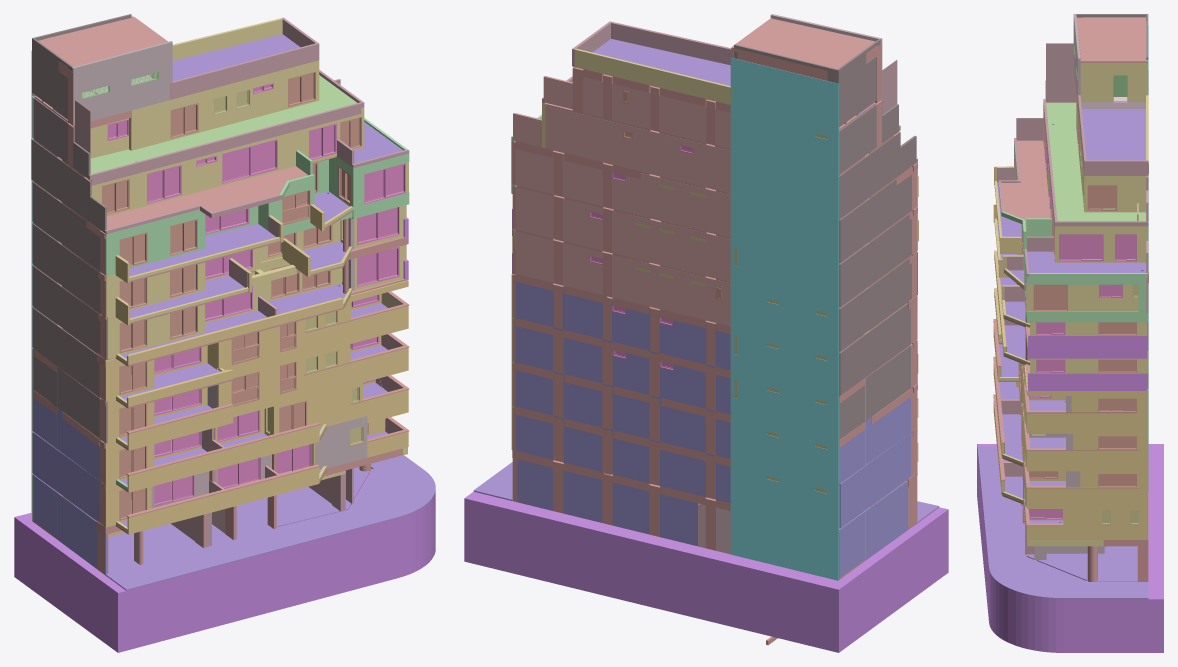
File: export_optimizado.glb
The picture shows the model from 3 angles, left to right: view 1: azimuth 30°, elevation 25°; view 2: azimuth 150°, elevation 25°; view 3: azimuth 270°, elevation 25°; orthographic projection. The views are drawn at different scales.
Visible parts, largest first — view 1: b6c92ccf-5ed4-40cd-8052-a4311964f4d4-001ed1fb, b48e75a0-e608-4424-82a1-90737de92903-0019c3a8, 50cde0a1-cd50-4eed-91e6-b8986626f74e-002ba91a, e541dee8-8ff9-4bf6-92fa-ad4d4bc16320-00241ce6, 9dd3454c-58d9-47c6-ace2-a0e0785d027c-003160f7, 989913ff-6326-4d10-8dc6-93c4a711d656-0005b3d7, 3faed956-dad3-4e42-bc31-6bb94f48b944-00187ec7, e541dee8-8ff9-4bf6-92fa-ad4d4bc16320-00241cf8, 9c3eb651-34d8-4eed-a249-2cb6b70178c4-0022fa7d, af0b759e-a575-4204-838e-907e9df6656f-000b1408, 8076bb30-cbe6-430b-9eab-5f683b912109-001858cd, a7863275-5941-4653-bb91-d8b438675e41-00057378 (+89 smaller); view 2: 1c318599-594d-46a9-b91b-5482b27efec7-002bacf2, b6c92ccf-5ed4-40cd-8052-a4311964f4d4-001ed1fb, edeb91b2-a4de-4f4d-942f-d9b1aebd0445-0021154c, b1ec02c2-0d8c-4ee0-a1c6-4a46e7e4e71c-00056236, 1519d463-8819-4422-80bb-b060f886a5d8-00055303, b1ec02c2-0d8c-4ee0-a1c6-4a46e7e4e71c-00056240, 1519d463-8819-4422-80bb-b060f886a5d8-000547e4, edeb91b2-a4de-4f4d-942f-d9b1aebd0445-00211812, b1ec02c2-0d8c-4ee0-a1c6-4a46e7e4e71c-00056258, b1ec02c2-0d8c-4ee0-a1c6-4a46e7e4e71c-0005624a, b1ec02c2-0d8c-4ee0-a1c6-4a46e7e4e71c-00056245, b20b94b0-da5e-41ca-8ee9-026512d27053-0024193e (+28 smaller); view 3: b6c92ccf-5ed4-40cd-8052-a4311964f4d4-001ed1fb, b48e75a0-e608-4424-82a1-90737de92903-0019c3a8, 9dd3454c-58d9-47c6-ace2-a0e0785d027c-003160f7, 3faed956-dad3-4e42-bc31-6bb94f48b944-00187f68, 8076bb30-cbe6-430b-9eab-5f683b912109-001858cd, df160c06-4589-4b15-ae37-877acd26834e-00200f31, 0d6de22c-ef1b-49fb-a9a8-ced4d0ade2b4-0021e702, 3faed956-dad3-4e42-bc31-6bb94f48b944-00187ec7, 50cde0a1-cd50-4eed-91e6-b8986626f74e-002ba888, a7863275-5941-4653-bb91-d8b438675e41-00057235, 3faed956-dad3-4e42-bc31-6bb94f48b944-00188033, df160c06-4589-4b15-ae37-877acd26834e-00201489 (+66 smaller).
Boxes of the visible parts, x1,y1,x2,y2 form: b6c92ccf-5ed4-40cd-8052-a4311964f4d4-001ed1fb: [14, 468, 435, 652]; b48e75a0-e608-4424-82a1-90737de92903-0019c3a8: [102, 455, 435, 590]; 50cde0a1-cd50-4eed-91e6-b8986626f74e-002ba91a: [72, 41, 172, 125]; e541dee8-8ff9-4bf6-92fa-ad4d4bc16320-00241ce6: [91, 114, 361, 216]; 9dd3454c-58d9-47c6-ace2-a0e0785d027c-003160f7: [90, 75, 356, 173]; 989913ff-6326-4d10-8dc6-93c4a711d656-0005b3d7: [217, 336, 350, 409]; 3faed956-dad3-4e42-bc31-6bb94f48b944-00187ec7: [106, 166, 307, 229]; e541dee8-8ff9-4bf6-92fa-ad4d4bc16320-00241cf8: [88, 102, 361, 185]; 9c3eb651-34d8-4eed-a249-2cb6b70178c4-0022fa7d: [127, 467, 319, 534]; af0b759e-a575-4204-838e-907e9df6656f-000b1408: [127, 425, 319, 492]; 8076bb30-cbe6-430b-9eab-5f683b912109-001858cd: [38, 17, 167, 66]; a7863275-5941-4653-bb91-d8b438675e41-00057378: [211, 60, 319, 129]; 1c318599-594d-46a9-b91b-5482b27efec7-002bacf2: [730, 57, 838, 580]; b6c92ccf-5ed4-40cd-8052-a4311964f4d4-001ed1fb: [464, 491, 948, 652]; edeb91b2-a4de-4f4d-942f-d9b1aebd0445-0021154c: [545, 105, 701, 185]; b1ec02c2-0d8c-4ee0-a1c6-4a46e7e4e71c-00056236: [514, 362, 730, 458]; 1519d463-8819-4422-80bb-b060f886a5d8-00055303: [514, 406, 730, 503]; b1ec02c2-0d8c-4ee0-a1c6-4a46e7e4e71c-00056240: [515, 282, 730, 370]; 1519d463-8819-4422-80bb-b060f886a5d8-000547e4: [517, 459, 698, 546]; edeb91b2-a4de-4f4d-942f-d9b1aebd0445-00211812: [514, 318, 703, 407]; b1ec02c2-0d8c-4ee0-a1c6-4a46e7e4e71c-00056258: [583, 77, 730, 148]; b1ec02c2-0d8c-4ee0-a1c6-4a46e7e4e71c-0005624a: [628, 214, 730, 281]; b1ec02c2-0d8c-4ee0-a1c6-4a46e7e4e71c-00056245: [627, 258, 730, 326]; b20b94b0-da5e-41ca-8ee9-026512d27053-0024193e: [515, 186, 628, 256]; b6c92ccf-5ed4-40cd-8052-a4311964f4d4-001ed1fb: [977, 444, 1163, 652]; b48e75a0-e608-4424-82a1-90737de92903-0019c3a8: [977, 446, 1148, 599]; 9dd3454c-58d9-47c6-ace2-a0e0785d027c-003160f7: [1046, 102, 1145, 220]; 3faed956-dad3-4e42-bc31-6bb94f48b944-00187f68: [1082, 109, 1145, 160]; 8076bb30-cbe6-430b-9eab-5f683b912109-001858cd: [1077, 17, 1145, 62]; df160c06-4589-4b15-ae37-877acd26834e-00200f31: [1028, 334, 1147, 358]; 0d6de22c-ef1b-49fb-a9a8-ced4d0ade2b4-0021e702: [1063, 502, 1148, 539]; 3faed956-dad3-4e42-bc31-6bb94f48b944-00187ec7: [1001, 140, 1050, 230]; 50cde0a1-cd50-4eed-91e6-b8986626f74e-002ba888: [1080, 62, 1148, 102]; a7863275-5941-4653-bb91-d8b438675e41-00057235: [1073, 427, 1148, 464]; 3faed956-dad3-4e42-bc31-6bb94f48b944-00188033: [1026, 546, 1137, 581]; df160c06-4589-4b15-ae37-877acd26834e-00201489: [1028, 371, 1147, 390].
Bounding box in the file's own units: 81.32 × 123 × 41.29.
